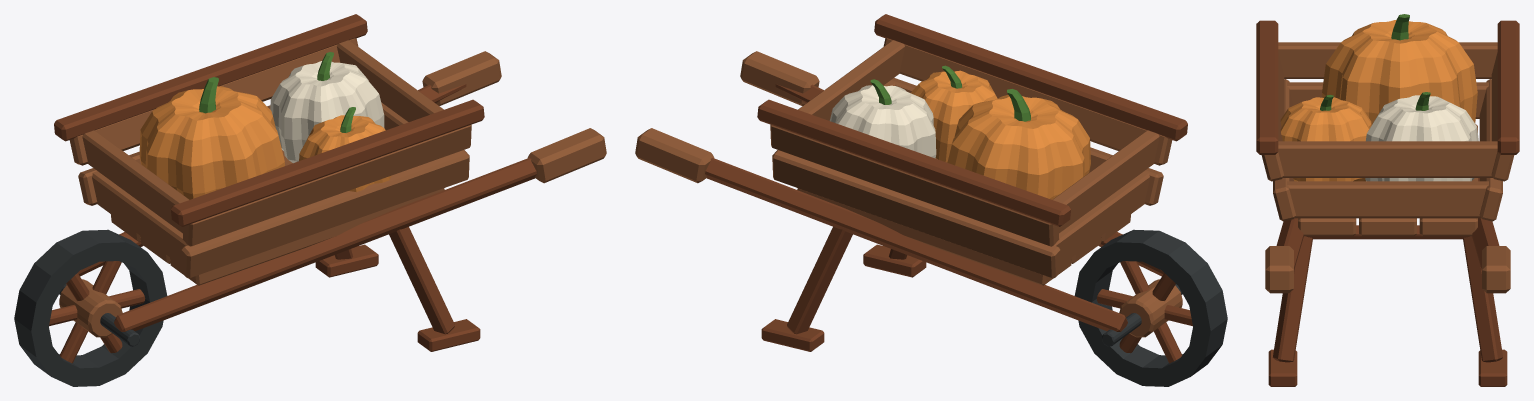
File: HarvestWheelbarrow.glb
The picture shows the model from 3 angles, left to right: view 1: azimuth 30°, elevation 25°; view 2: azimuth 150°, elevation 25°; view 3: azimuth 270°, elevation 25°; orthographic projection. The views are drawn at different scales.
Visible parts, largest first — view 1: HarvestWheelbarrow_Timber, HarvestWheelbarrow_Frame, HarvestWheelbarrow_Pumpkins, HarvestWheelbarrow_Hardware, HarvestWheelbarrow_Cream, HarvestWheelbarrow_Stems; view 2: HarvestWheelbarrow_Timber, HarvestWheelbarrow_Frame, HarvestWheelbarrow_Pumpkins, HarvestWheelbarrow_Hardware, HarvestWheelbarrow_Cream, HarvestWheelbarrow_Stems; view 3: HarvestWheelbarrow_Timber, HarvestWheelbarrow_Frame, HarvestWheelbarrow_Pumpkins, HarvestWheelbarrow_Cream, HarvestWheelbarrow_Stems.
Part boxes in pixels (x1,y1,x2,y2): HarvestWheelbarrow_Timber: (59, 38, 606, 337); HarvestWheelbarrow_Frame: (49, 14, 536, 363); HarvestWheelbarrow_Pumpkins: (139, 86, 390, 199); HarvestWheelbarrow_Hardware: (14, 229, 167, 386); HarvestWheelbarrow_Cream: (270, 61, 384, 163); HarvestWheelbarrow_Stems: (199, 52, 355, 132); HarvestWheelbarrow_Timber: (635, 38, 1182, 337); HarvestWheelbarrow_Frame: (705, 14, 1192, 363); HarvestWheelbarrow_Pumpkins: (910, 70, 1090, 199); HarvestWheelbarrow_Hardware: (1074, 229, 1227, 386); HarvestWheelbarrow_Cream: (829, 85, 936, 158); HarvestWheelbarrow_Stems: (870, 65, 1030, 121); HarvestWheelbarrow_Timber: (1261, 42, 1514, 293); HarvestWheelbarrow_Frame: (1256, 20, 1519, 386); HarvestWheelbarrow_Pumpkins: (1280, 20, 1477, 181); HarvestWheelbarrow_Cream: (1365, 95, 1478, 181); HarvestWheelbarrow_Stems: (1320, 14, 1430, 110).
Bounding box in the file's own units: 1.85 × 0.8831 × 0.777.
